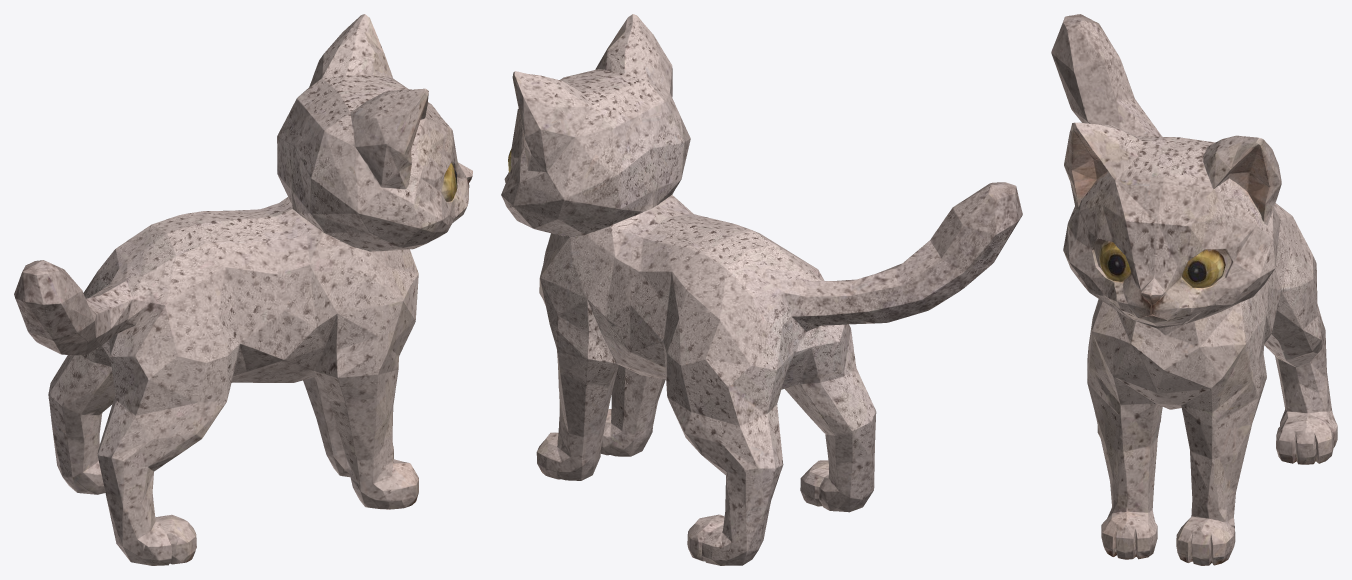
The model's file is PUMICE.glb.
3 views of the same model, side by side, from view 1: azimuth 30°, elevation 25°; view 2: azimuth 150°, elevation 25°; view 3: azimuth 270°, elevation 25° (orthographic). The views are drawn at different scales.
Parts seen in each view (by area): view 1: fit; view 2: fit; view 3: fit.
Boxes of the visible parts, x1,y1,x2,y2 form: fit: (14, 14, 472, 565); fit: (501, 14, 1022, 565); fit: (1051, 14, 1337, 565).
Size of the model in its own units: 1.19 by 0.9999 by 0.6021.
Materials: 1 (1 with a texture image).
